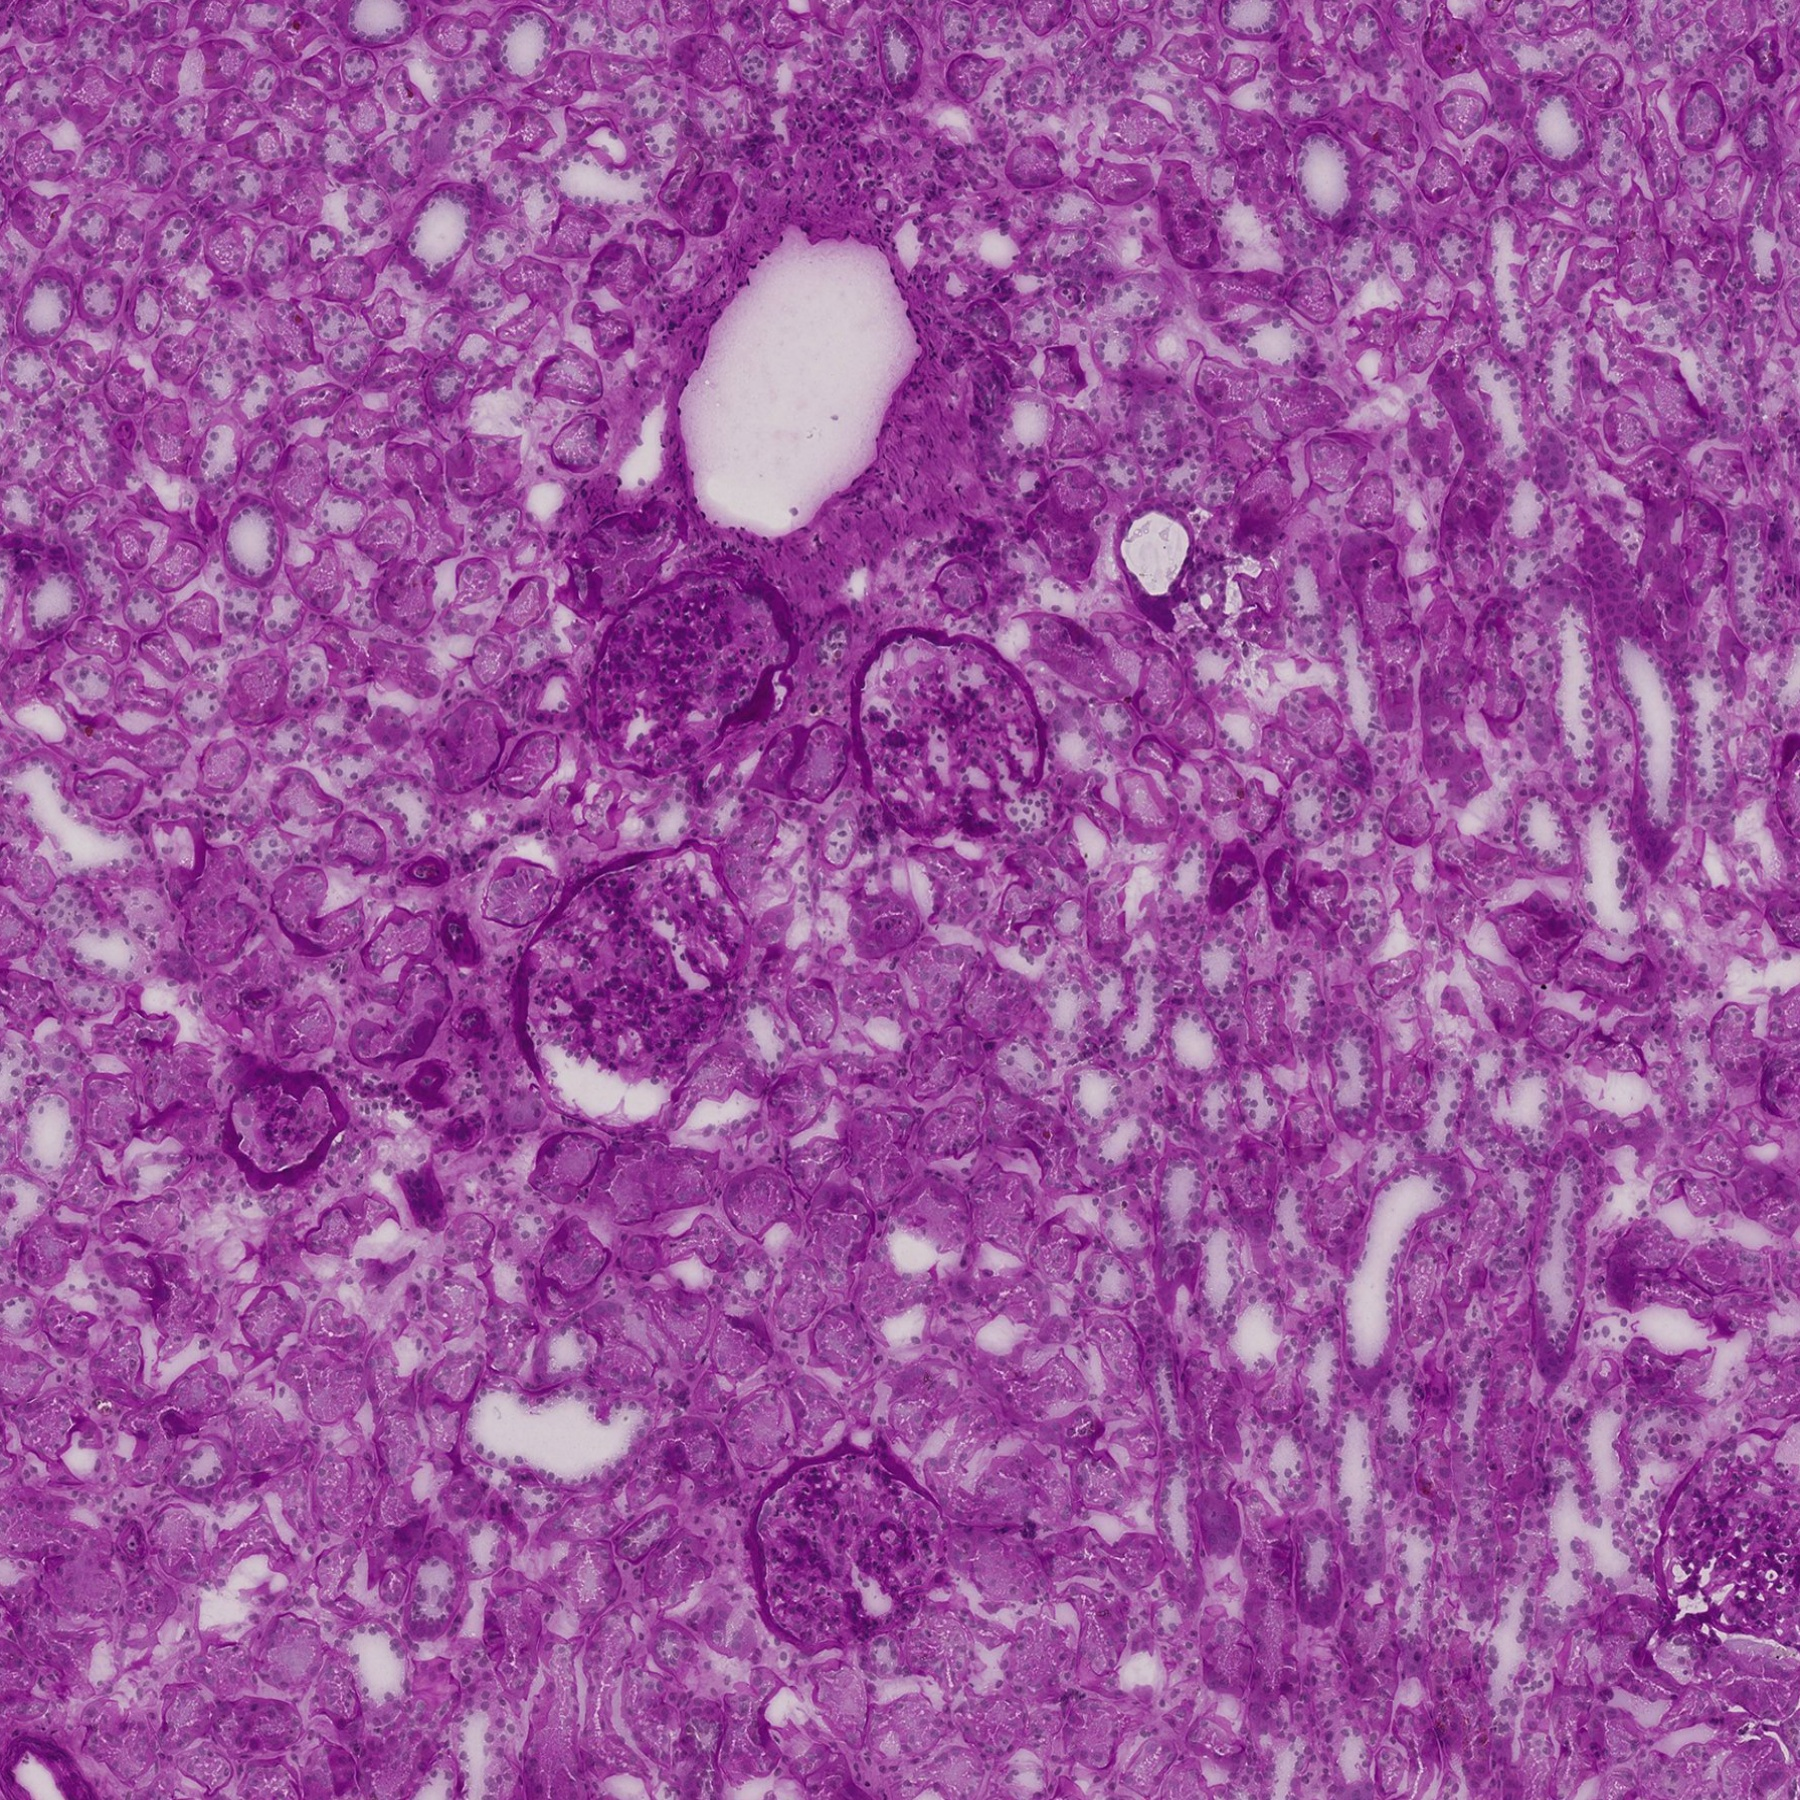Glomeruli: (509, 834, 752, 1132), (580, 567, 798, 773), (849, 626, 1055, 844), (747, 1446, 951, 1657), (1648, 1413, 1800, 1652)
